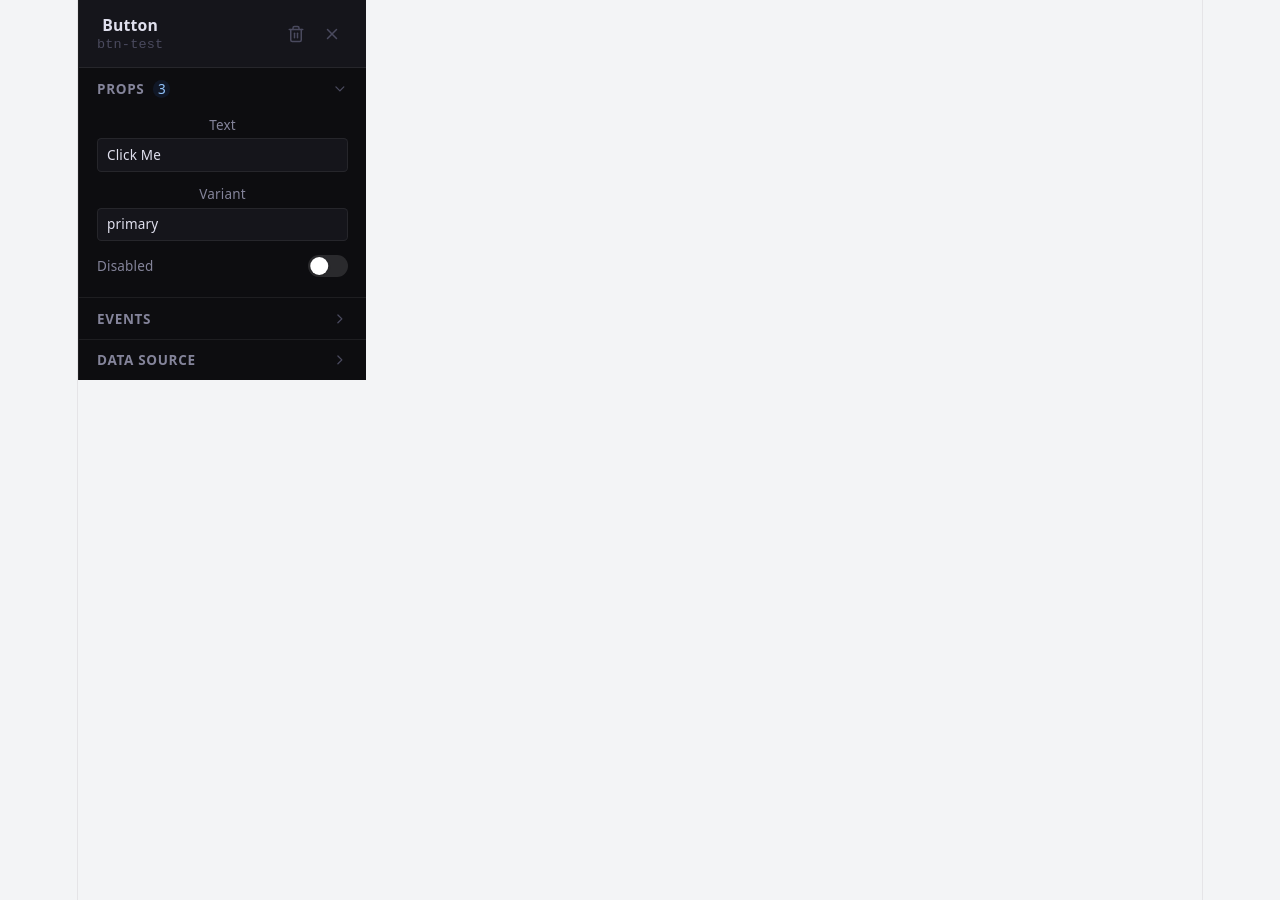
Test case: data source section › shows a dropdown when data sources exist
Click the button "Data source" at (146, 360), box [79,340,366,380]
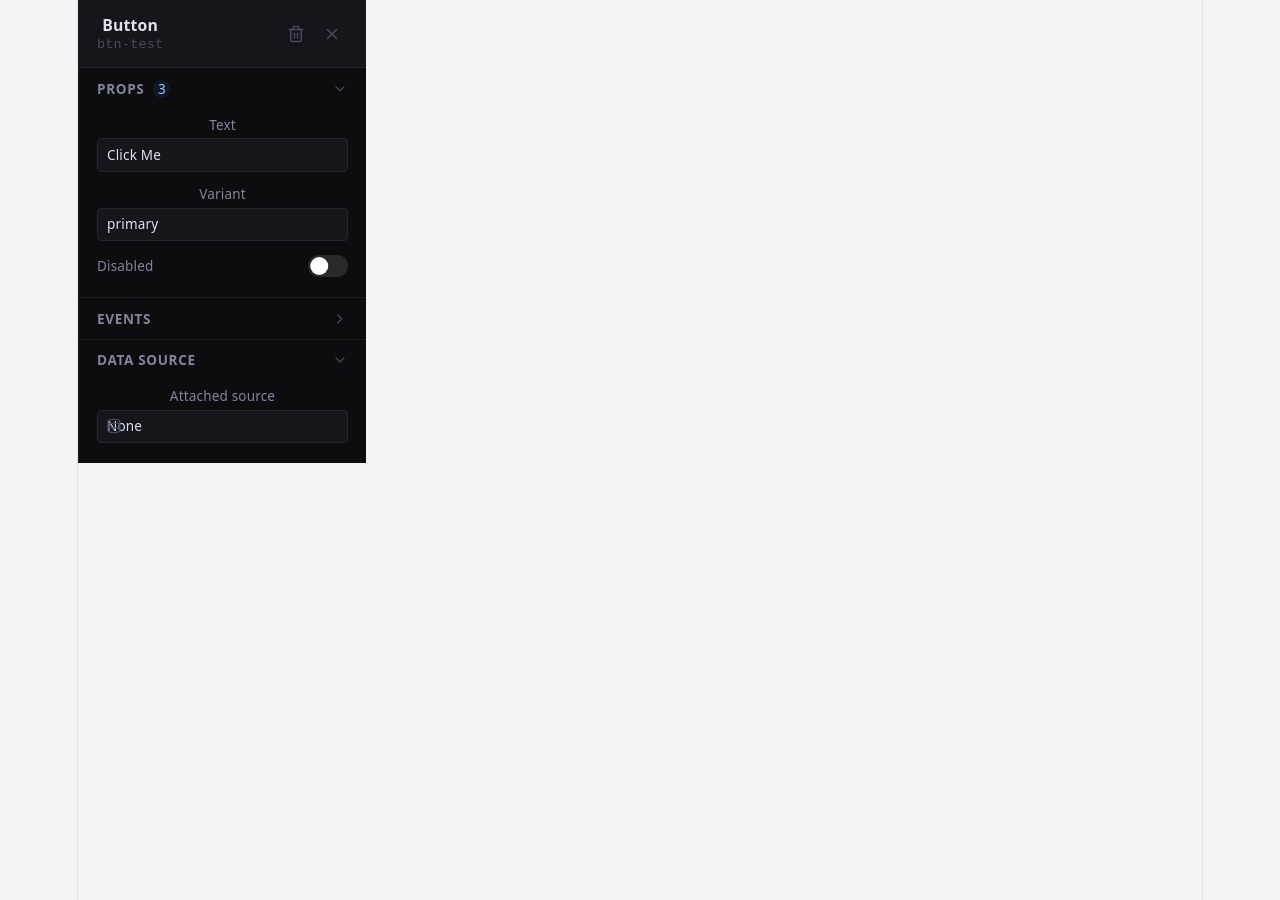
Now the dropdown named "attached source" is shown, box [97,410,348,443]
